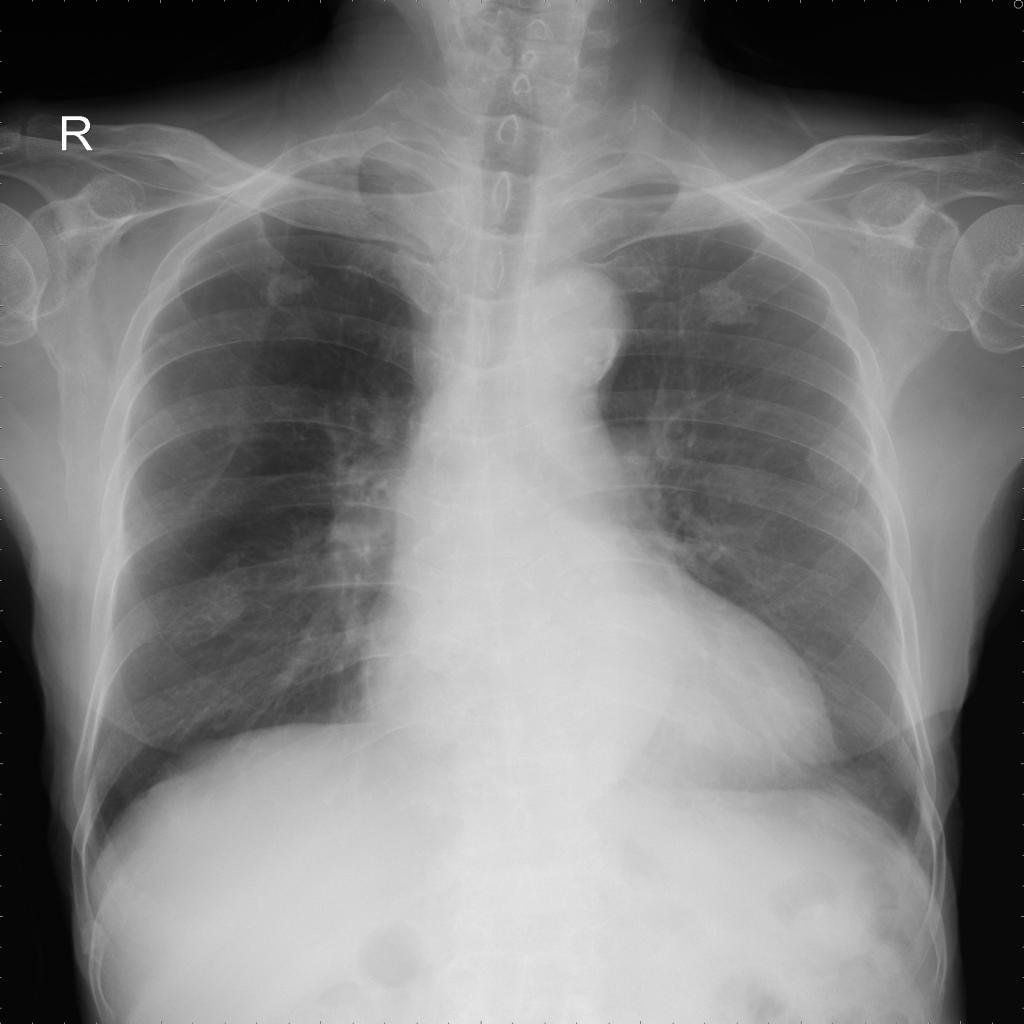Nodule: (806, 441, 855, 492)
